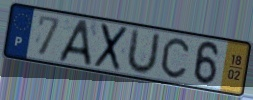6: (192, 40, 222, 87)
7: (36, 13, 63, 58)
A: (56, 19, 93, 67)
C: (160, 36, 191, 80)
U: (124, 27, 162, 76)
X: (92, 22, 130, 73)
